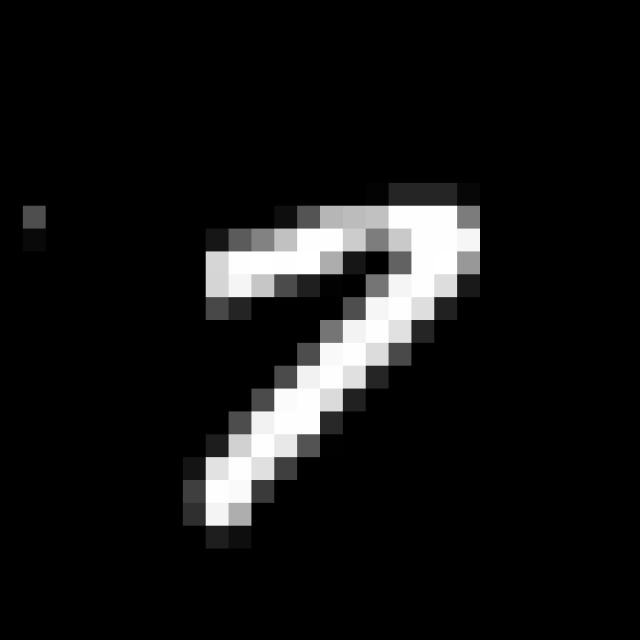seven -7-: (178, 196, 499, 536)
